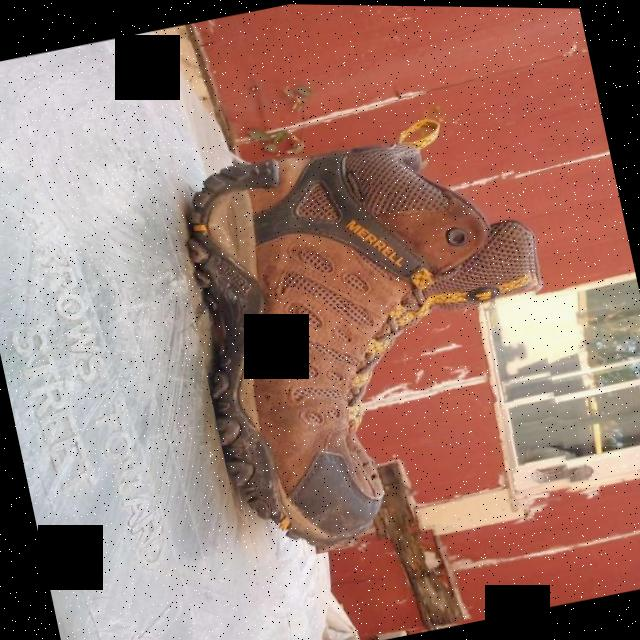shoe: (165, 104, 586, 571)
